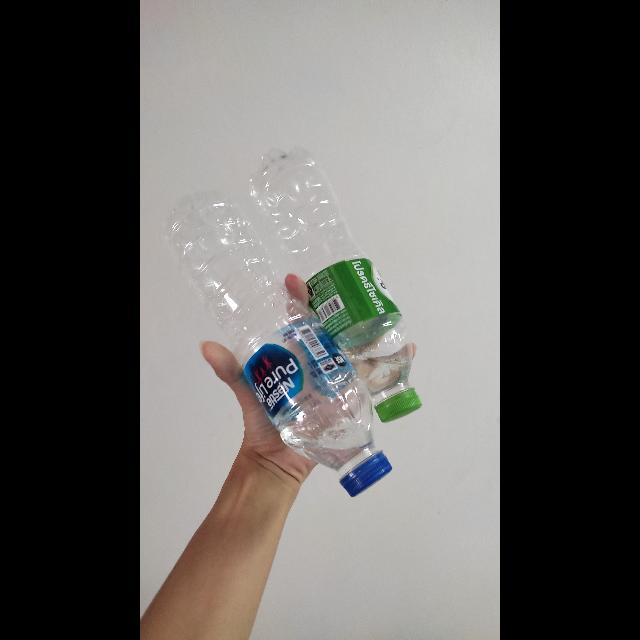plastic_bottle: (150, 188, 396, 498), (252, 140, 446, 420)
